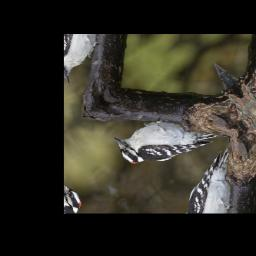Woodpecker: (109, 85, 221, 191)
